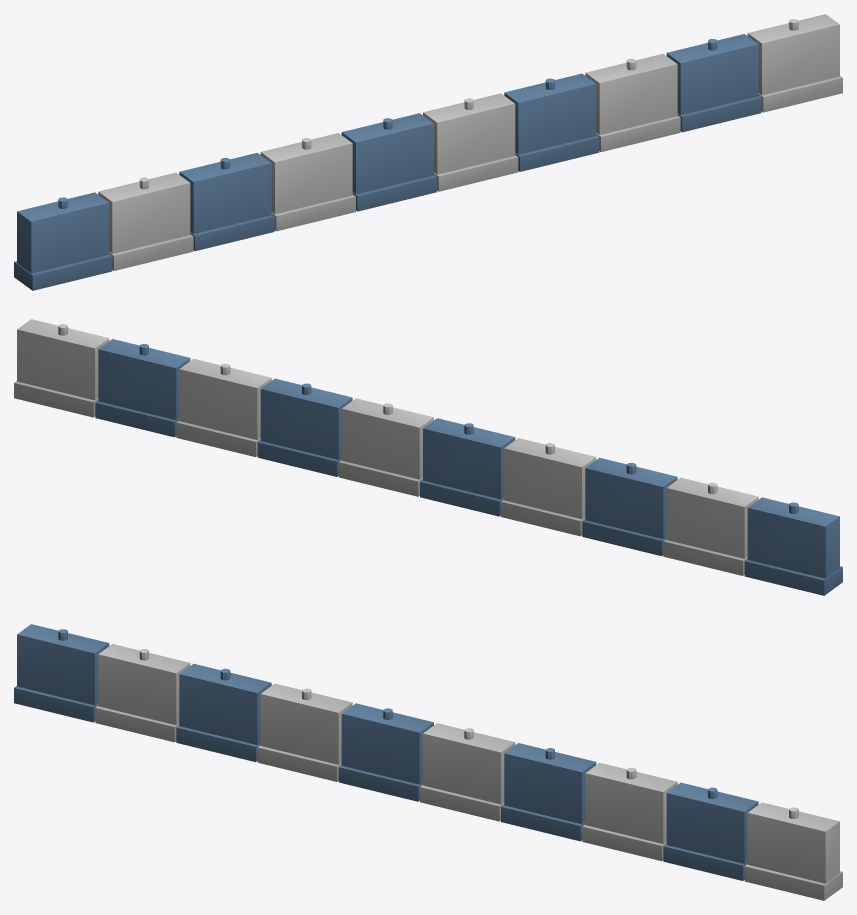
Rendered from barrier_plastic_navy_white_01_strip5.glb.
3 views of the same model, one above another, from view 1: azimuth 30°, elevation 25°; view 2: azimuth 150°, elevation 25°; view 3: azimuth 330°, elevation 25° (orthographic).
Parts seen in each view (by area): view 1: barrier_plastic_navy_white_01_strip5; view 2: barrier_plastic_navy_white_01_strip5; view 3: barrier_plastic_navy_white_01_strip5.
Part boxes in pixels (x1=…): barrier_plastic_navy_white_01_strip5: x1=14, y1=14, x2=842, y2=290; barrier_plastic_navy_white_01_strip5: x1=14, y1=319, x2=842, y2=595; barrier_plastic_navy_white_01_strip5: x1=14, y1=624, x2=842, y2=900.
Size of the model in its own units: 9.98 by 0.882 by 0.4.
